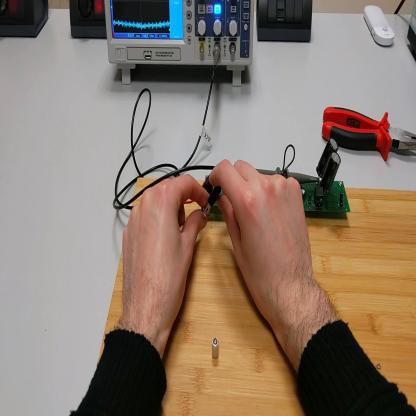hand: (217, 157, 316, 334), (120, 173, 210, 336)
high voltage board: (185, 139, 350, 222)
oscilloscope: (106, 1, 255, 89)
oscilloscope probe tip: (256, 172, 321, 185)
pliers: (320, 109, 416, 163)
socket: (1, 1, 51, 42), (70, 1, 107, 44)
welder station: (408, 2, 416, 58)
working area: (100, 173, 416, 416)
